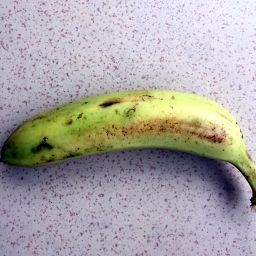banana: (0, 87, 256, 208)
